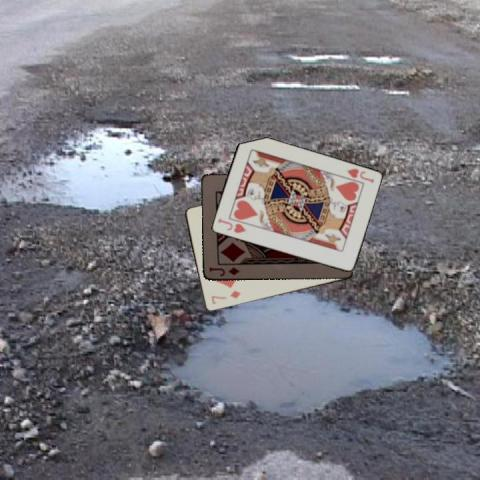7d: (208, 288, 242, 306)
Jd: (206, 264, 241, 278)
Jh: (215, 215, 247, 235), (344, 165, 375, 185)
